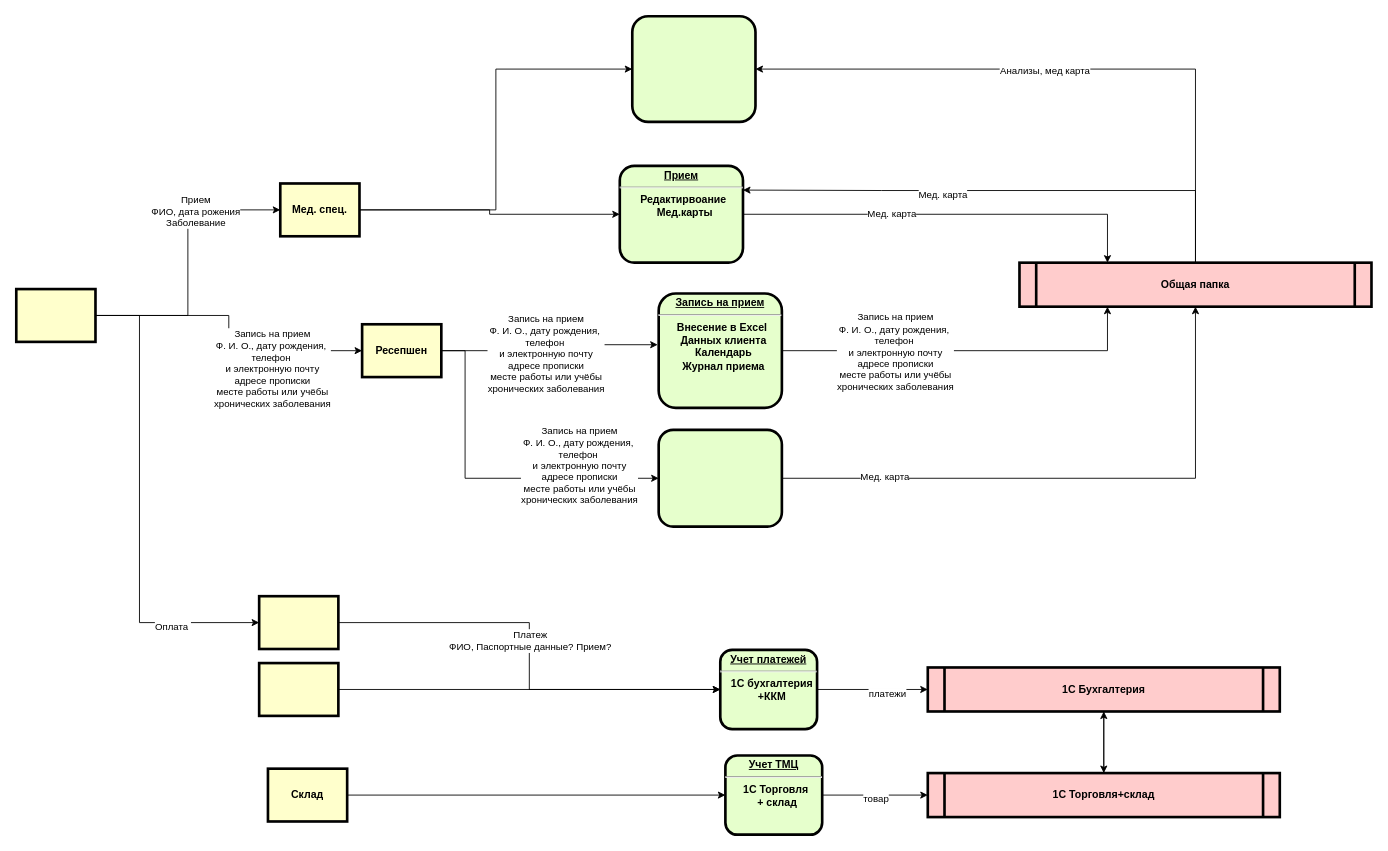
Image size: 1388x851. Some labels were removed from this diagram. The shapes that lost their labels are listed below. From the top down, each one's box as (x1, y1, x2, y2) in pixels, then its label:
(631, 15, 756, 123): Учет анализов Получение анализов Редактирвоание Мед.карты
(15, 287, 96, 343): Пациент
(657, 428, 783, 528): Создание мед-карты Создает мед.карту вносит данные
(257, 594, 339, 650): Кассир
(257, 661, 339, 717): Бухгалтерия
